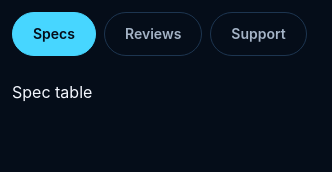
it: Tabs › shows the selected panel and switches on click
Expected: the text "Spec table" is shown, x1=12 y1=82 x2=92 y2=102
Expected: the text "Review list" is not shown
Click the tab "Reviews".
click(153, 34)  # box x1=104 y1=12 x2=202 y2=56
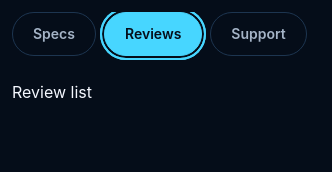
Expected: the text "Review list" is shown, x1=12 y1=82 x2=92 y2=102
